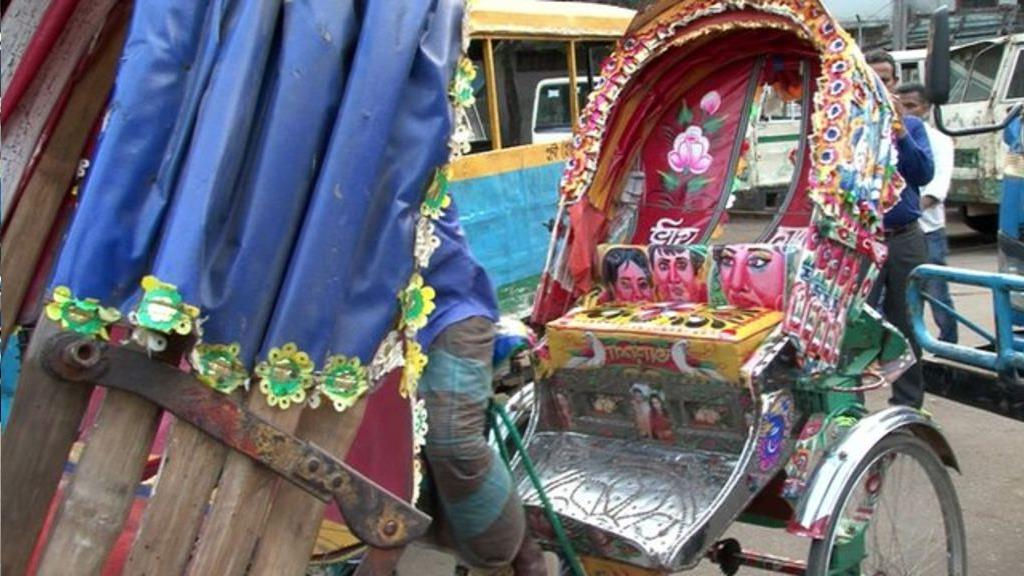Rickshaw: (4, 0, 474, 573), (513, 2, 948, 573)
